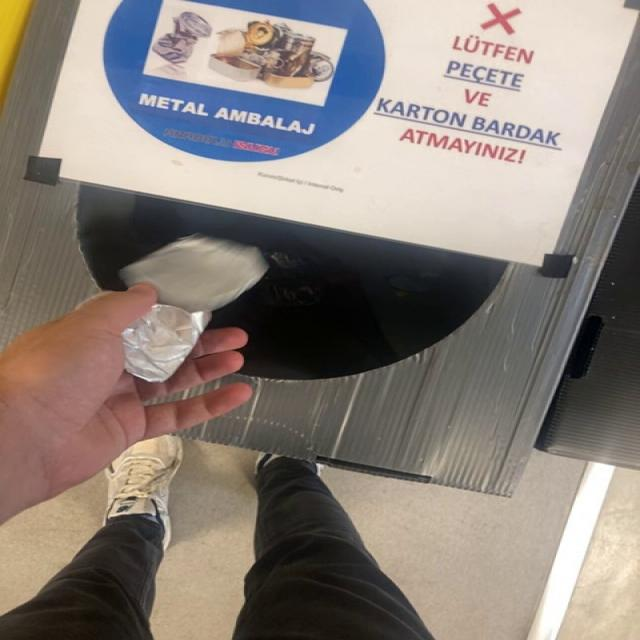bin: (1, 0, 640, 496)
metal: (119, 234, 269, 312)
